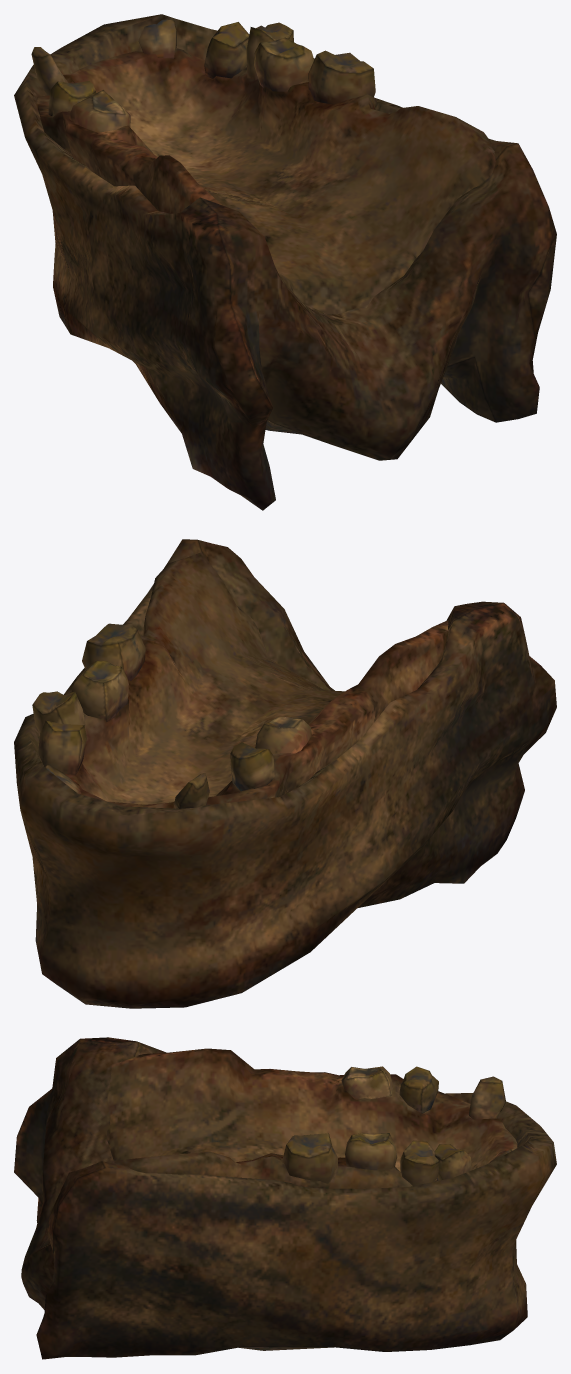
The model's file is mummified_jaw.DAE.
The picture shows the model from 3 angles, top to bottom: view 1: azimuth 30°, elevation 25°; view 2: azimuth 150°, elevation 25°; view 3: azimuth 270°, elevation 25°; orthographic projection. The views are drawn at different scales.
Parts seen in each view (by area): view 1: default; view 2: default; view 3: default.
Part boxes in pixels (x1,y1,x2,y2): default: [14, 14, 556, 510]; default: [14, 539, 556, 1008]; default: [14, 1037, 556, 1359].
Size of the model in its own units: 0.1565 by 0.2464 by 0.1195.
